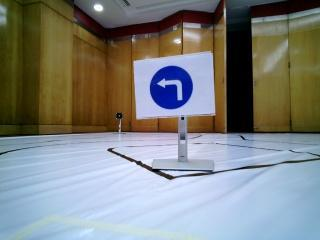left: (136, 61, 212, 113)
